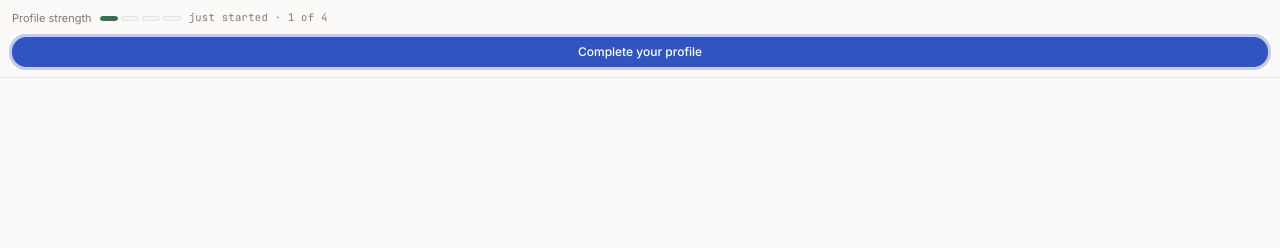
Test: EnrichmentJourney — follow-up flow › swaps in the follow-up ask, then advances without re-showing it
Step 1. Click the button "Complete your profile" → coordinates (640, 52), box [12, 36, 1268, 66]
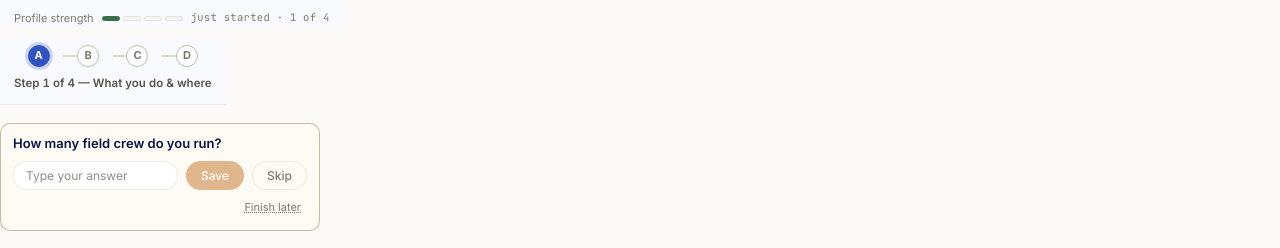
expect the field named "Crew size" is shown: met
Step 2. Type "6" into the field named "Crew size" → coordinates (96, 175), box [13, 161, 178, 190]
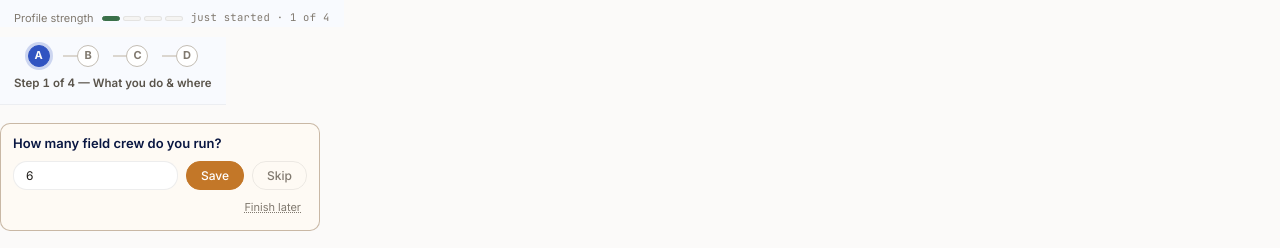
Step 3. Click the button "Save" → coordinates (215, 175), box [186, 161, 244, 190]
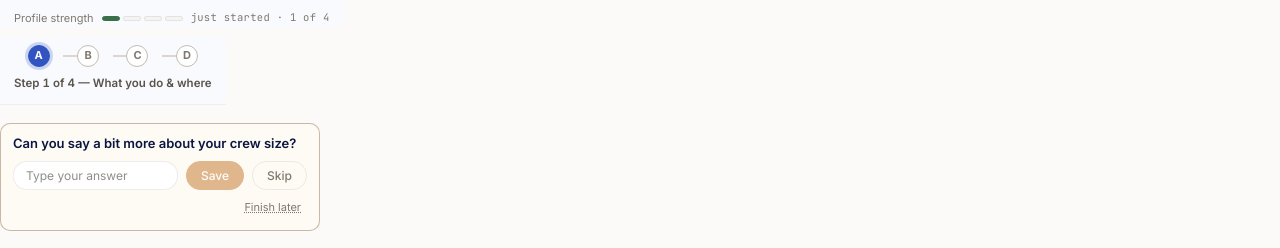
expect the text "Can you say a bit more about your crew size?" is shown: met, box [13, 134, 307, 153]
expect the text "How many field crew do you run?" is gone: met
Step 4. Type "6 full-time, 2 seasonal" into the field named "Crew size detail" → coordinates (96, 175), box [13, 161, 178, 190]
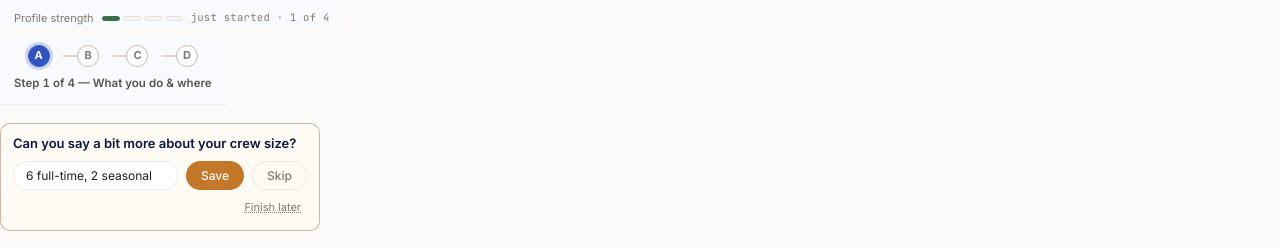
Step 5. Click the button "Save" → coordinates (215, 175), box [186, 161, 244, 190]
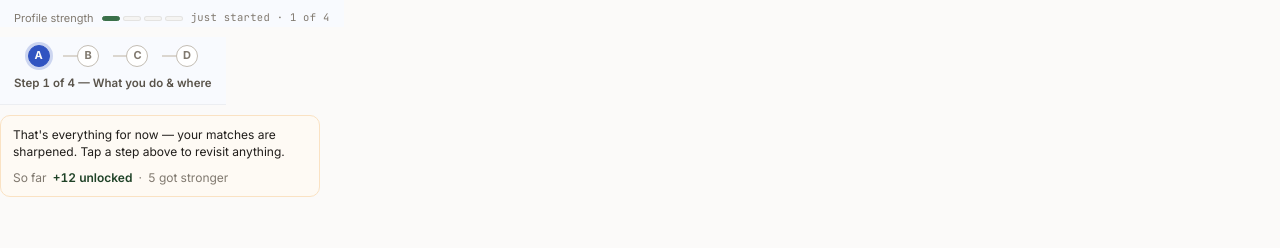
expect the text "your matches are sharpened" is shown: met, box [13, 127, 285, 159]
expect the text "Can you say a bit more about your crew size?" is gone: met
